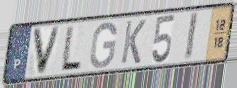5: (151, 13, 177, 64)
G: (88, 21, 118, 70)
I: (183, 10, 200, 63)
K: (119, 19, 148, 66)
L: (59, 25, 84, 72)
V: (31, 24, 63, 77)
